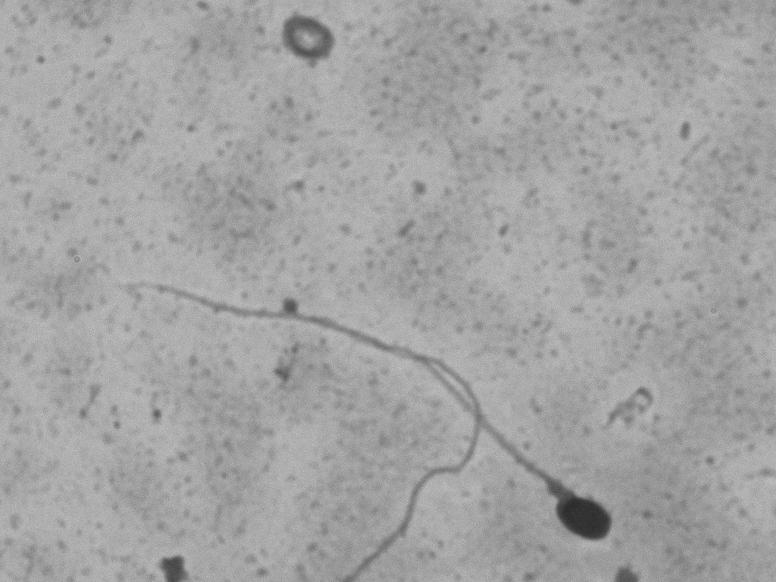Abnormal: (115, 267, 627, 550)
